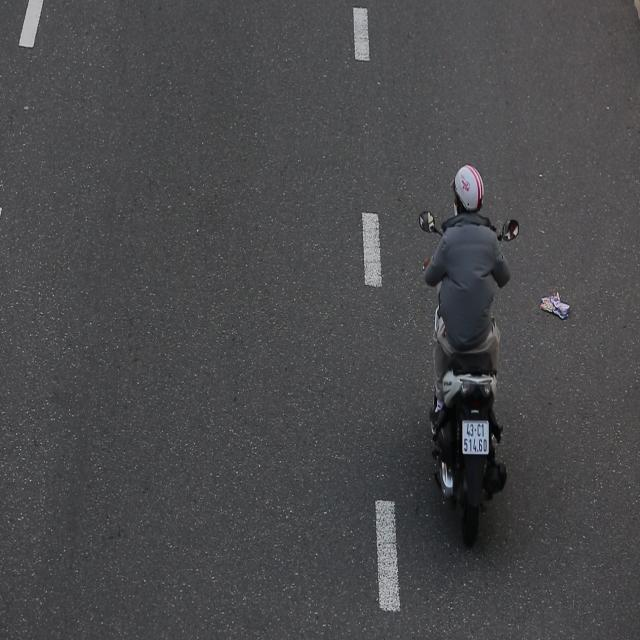motorbike: (408, 148, 523, 552)
